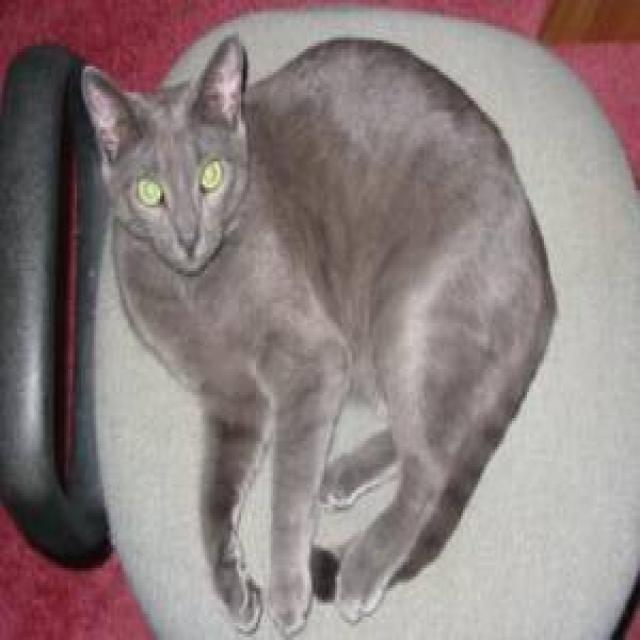Russian_Blue: (80, 21, 258, 274)
